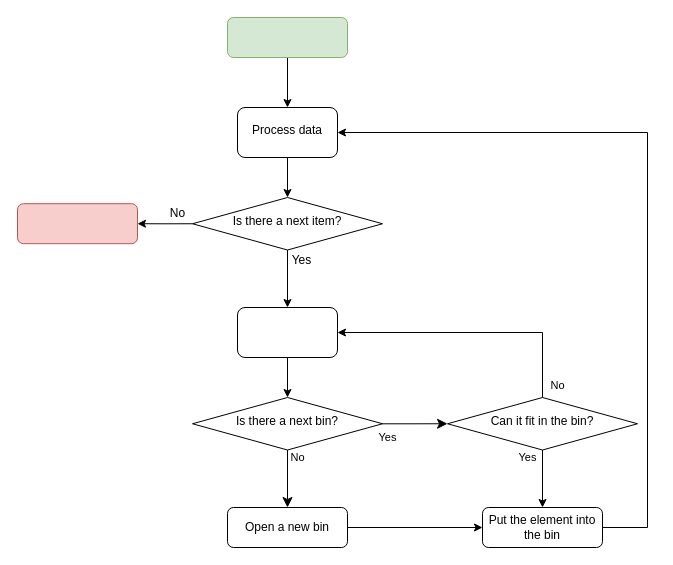
This 673x565 diagram has some shape labels left out. Each missing label, with the centre of its shape:
"Process element" belongs at point (287, 332).
"Return used bins" belongs at point (77, 223).
"Start FirstFit algorithm" belongs at point (287, 37).
